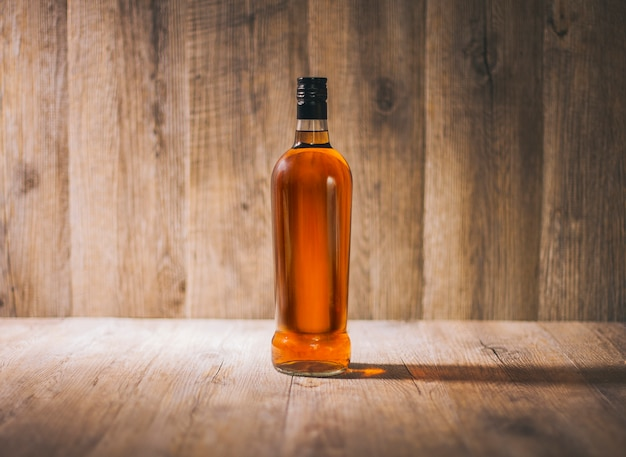alcohol: (271, 77, 352, 379)
